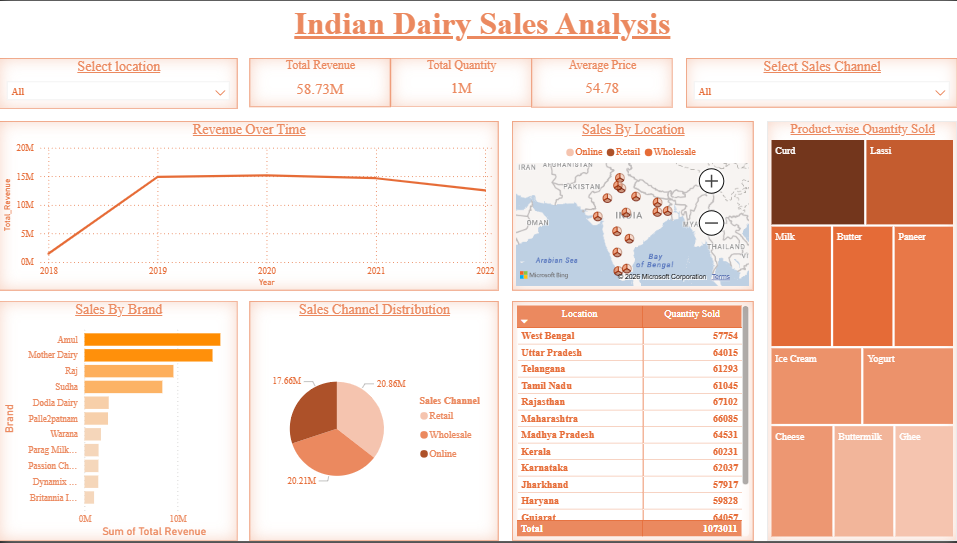

This screenshot's page, from the dashboard's own definition file:
{"tool":"powerbi","page":{"name":"Page 1","canvas":[1280,720],"ordinal":0},"visuals":[{"type":"textbox","box":[10.6,0,1268.9,78.7],"z":0},{"type":"card","title":"Total Revenue","fields":{"Values":["dairy_dataset.Total_Revenue"]},"box":[334.4,76.7,187.8,65.6],"z":1000},{"type":"card","title":"Total Quantity ","fields":{"Values":["dairy_dataset.Total Quantity Sold"]},"box":[521.7,76.7,188.3,65],"z":2000},{"type":"card","title":"Average Price","fields":{"Values":["dairy_dataset.Average Price"]},"box":[710,76,188,66],"z":3000},{"type":"clusteredBarChart","title":"Sales By Brand","fields":{"Category":["dairy_dataset.Brand"],"Y":["Sum(dairy_dataset.Total Revenue)"]},"box":[0,400,318,320],"z":4000},{"type":"pieChart","title":"Sales Channel Distribution","fields":{"Category":["dairy_dataset.Sales Channel"],"Y":["dairy_dataset.Total_Revenue"]},"box":[334,400,332,320],"z":5000},{"type":"lineChart","title":"Revenue Over Time","fields":{"Category":["dairy_dataset.Production Date.Variation.Date Hierarchy.Year","dairy_dataset.Production Date.Variation.Date Hierarchy.Quarter","dairy_dataset.Production Date.Variation.Date Hierarchy.Month","dairy_dataset.Production Date.Variation.Date Hierarchy.Day"],"Y":["dairy_dataset.Total_Revenue"]},"box":[0,160,666,226],"z":6000},{"type":"map","title":"Sales By Location","fields":{"Series":["dairy_dataset.Sales Channel"],"Category":["dairy_dataset.Location"]},"box":[684,160,322,226],"z":7000},{"type":"tableEx","fields":{"Values":["dairy_dataset.Location","Sum(dairy_dataset.Quantity Sold (liters/kg))"]},"box":[684,400,322,320],"z":8000},{"type":"slicer","title":"Select Sales Channel","fields":{"Values":["dairy_dataset.Sales Channel"]},"box":[916,76,362,66],"z":9000},{"type":"slicer","title":"Select location","fields":{"Values":["dairy_dataset.Location"]},"box":[0,76,318,68],"z":10000},{"type":"treemap","title":"Product-wise Quantity Sold","fields":{"Values":["dairy_dataset.Total Quantity Sold"],"Group":["dairy_dataset.Product Name"]},"box":[1024,160,254,560],"z":11000}]}

Visuals, with their boxes in screenshot pixels (x1, y1, x2, y2), scaled from the page's 1280x720 canvas onto the 957x543 screenshot:
textbox: box(8, 0, 956, 59)
"Total Revenue" card: box(250, 58, 390, 107)
"Total Quantity " card: box(390, 58, 531, 107)
"Average Price" card: box(531, 57, 671, 107)
"Sales By Brand" clusteredBarChart: box(0, 302, 238, 542)
"Sales Channel Distribution" pieChart: box(250, 302, 498, 542)
"Revenue Over Time" lineChart: box(0, 121, 498, 291)
"Sales By Location" map: box(511, 121, 752, 291)
tableEx - dairy_dataset.Location x Sum(dairy_dataset.Quantity Sold (liters/kg)): box(511, 302, 752, 542)
"Select Sales Channel" slicer: box(685, 57, 956, 107)
"Select location" slicer: box(0, 57, 238, 109)
"Product-wise Quantity Sold" treemap: box(766, 121, 956, 542)
